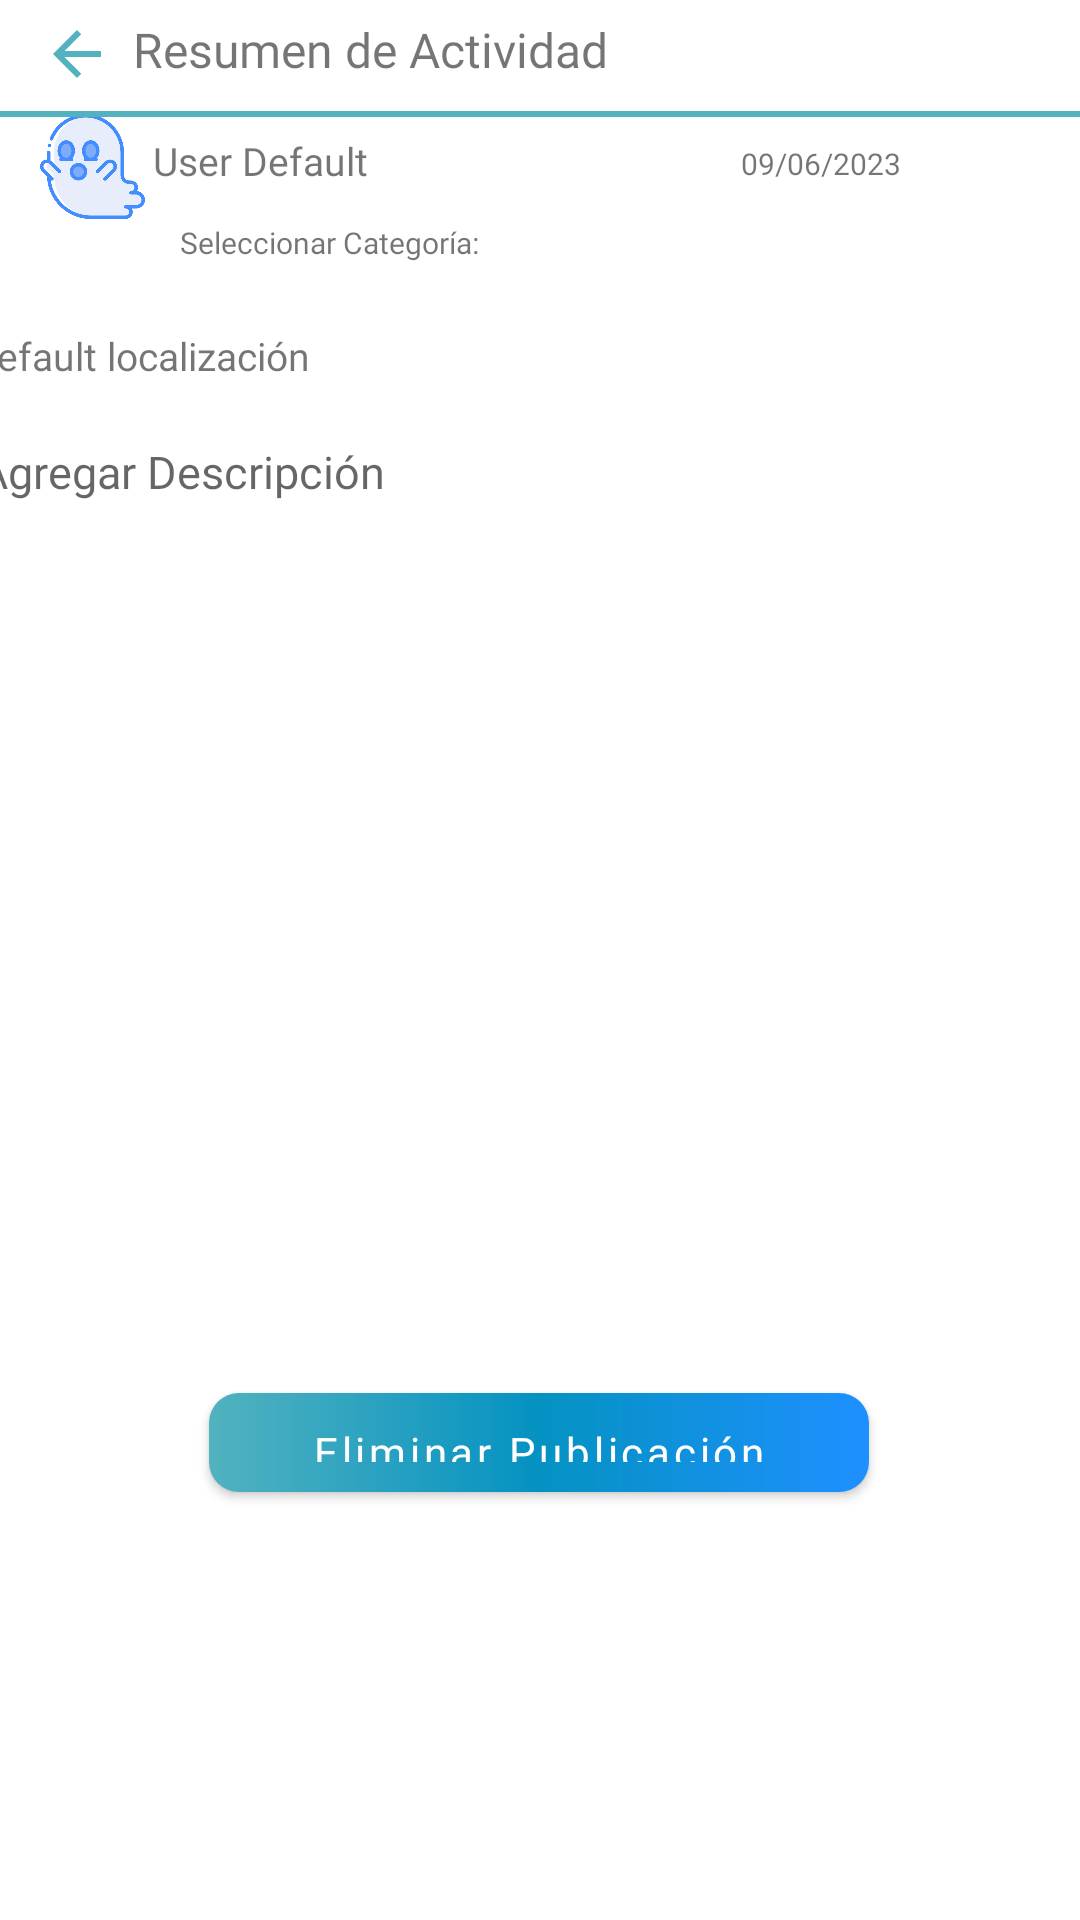

Screen size 1080×1920. Icon name, then its box in pixels as (x1,y1,x2,y2):
fantasma: (40,114,145,219)
regresar: (53,30,101,78)
